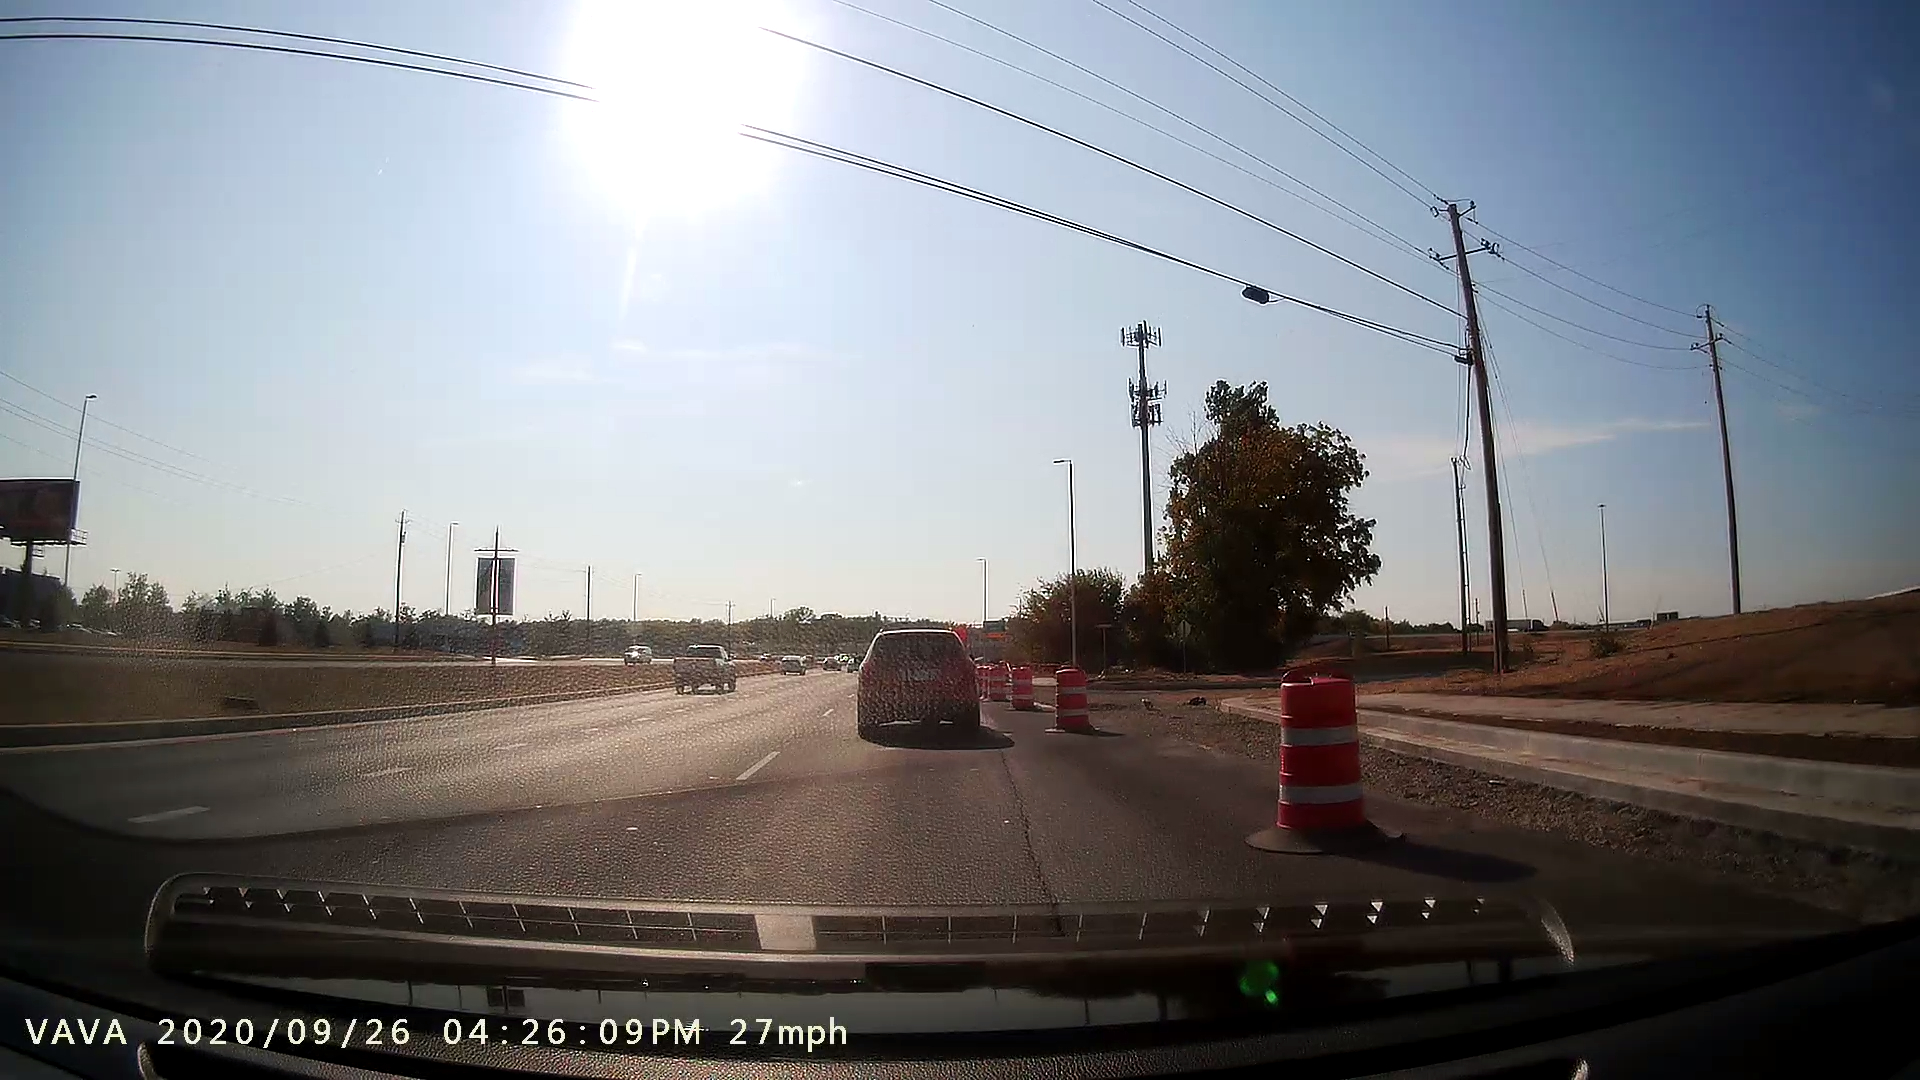const_barrel: (1241, 673, 1403, 855), (1043, 663, 1117, 746)
